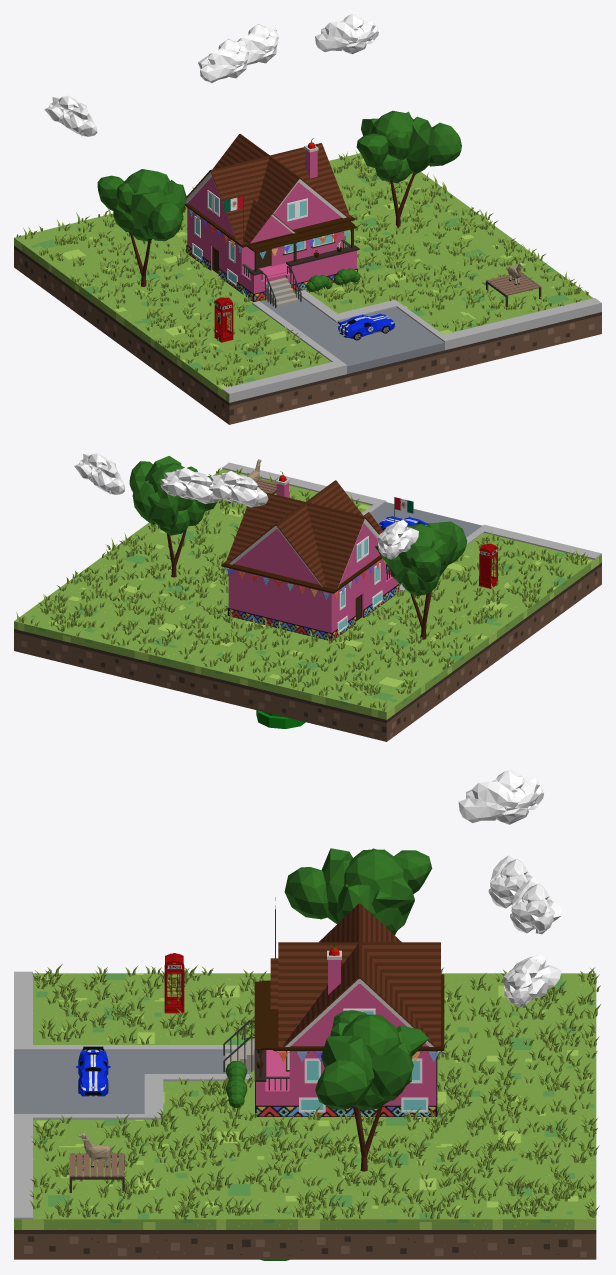
The picture shows the model from 3 angles, top to bottom: view 1: azimuth 30°, elevation 25°; view 2: azimuth 150°, elevation 25°; view 3: azimuth 270°, elevation 25°; orthographic projection. The views are drawn at different scales.
Parts seen in each view (by area): view 1: Cube.006, Cube.1005, Circle.012_Grass_0.192, Cube.007, tree, tree.001, VEHICLES_RACING_CAR, OBJRANDOM_PHONEBOOTH, Cube.009; view 2: Cube.006, Cube.1005, Circle.012_Grass_0.192, Cube.007, tree.001, tree, OBJRANDOM_PHONEBOOTH, UNDERGROUND_PIPES; view 3: Cube.006, Circle.012_Grass_0.192, Cube.1005, tree, Cube.007, tree.001, VEHICLES_RACING_CAR, Cube.009, OBJRANDOM_PHONEBOOTH.
Boxes of the visible parts, bbox=[...] form: Cube.006: bbox=[14, 153, 601, 424]; Cube.1005: bbox=[184, 134, 359, 307]; Circle.012_Grass_0.192: bbox=[16, 150, 588, 386]; Cube.007: bbox=[44, 14, 378, 136]; tree: bbox=[356, 110, 461, 228]; tree.001: bbox=[97, 169, 186, 286]; VEHICLES_RACING_CAR: bbox=[338, 313, 394, 340]; OBJRANDOM_PHONEBOOTH: bbox=[214, 297, 233, 342]; Cube.009: bbox=[486, 272, 541, 306]; Cube.006: bbox=[14, 462, 601, 741]; Cube.1005: bbox=[221, 471, 413, 640]; Circle.012_Grass_0.192: bbox=[16, 468, 588, 711]; Cube.007: bbox=[74, 453, 418, 559]; tree.001: bbox=[375, 521, 467, 639]; tree: bbox=[129, 456, 216, 577]; OBJRANDOM_PHONEBOOTH: bbox=[478, 543, 498, 588]; UNDERGROUND_PIPES: bbox=[256, 710, 305, 728]; Cube.006: bbox=[14, 971, 596, 1259]; Circle.012_Grass_0.192: bbox=[29, 964, 600, 1220]; Cube.1005: bbox=[223, 897, 444, 1116]; tree: bbox=[315, 1010, 428, 1171]; Cube.007: bbox=[458, 770, 561, 1007]; tree.001: bbox=[284, 848, 432, 935]; VEHICLES_RACING_CAR: bbox=[76, 1046, 110, 1096]; Cube.009: bbox=[69, 1152, 124, 1192]; OBJRANDOM_PHONEBOOTH: bbox=[164, 953, 184, 1013].
Bounding box in the file's own units: 4071 × 2759 × 4040.
Materials: 76 (5 with a texture image).
